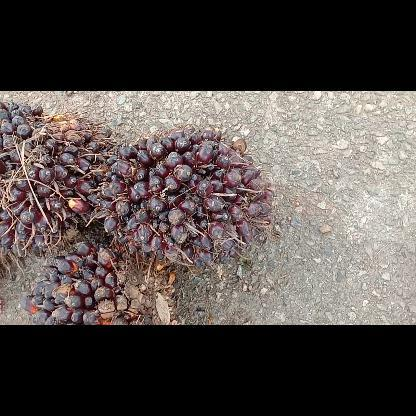TBS mentah: (100, 125, 272, 269), (0, 102, 110, 270), (18, 240, 180, 324)
